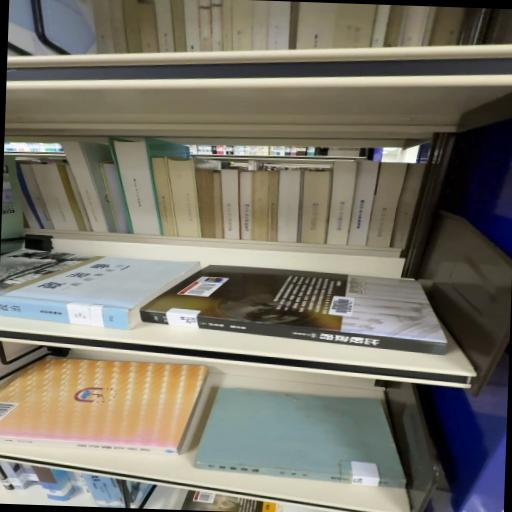flat: (141, 265, 446, 354), (195, 388, 404, 488), (0, 358, 208, 455), (0, 248, 200, 329)
